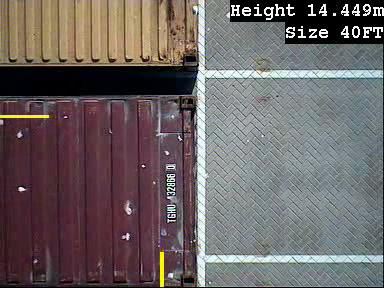groundmarker_2: (195, 101, 226, 169)
